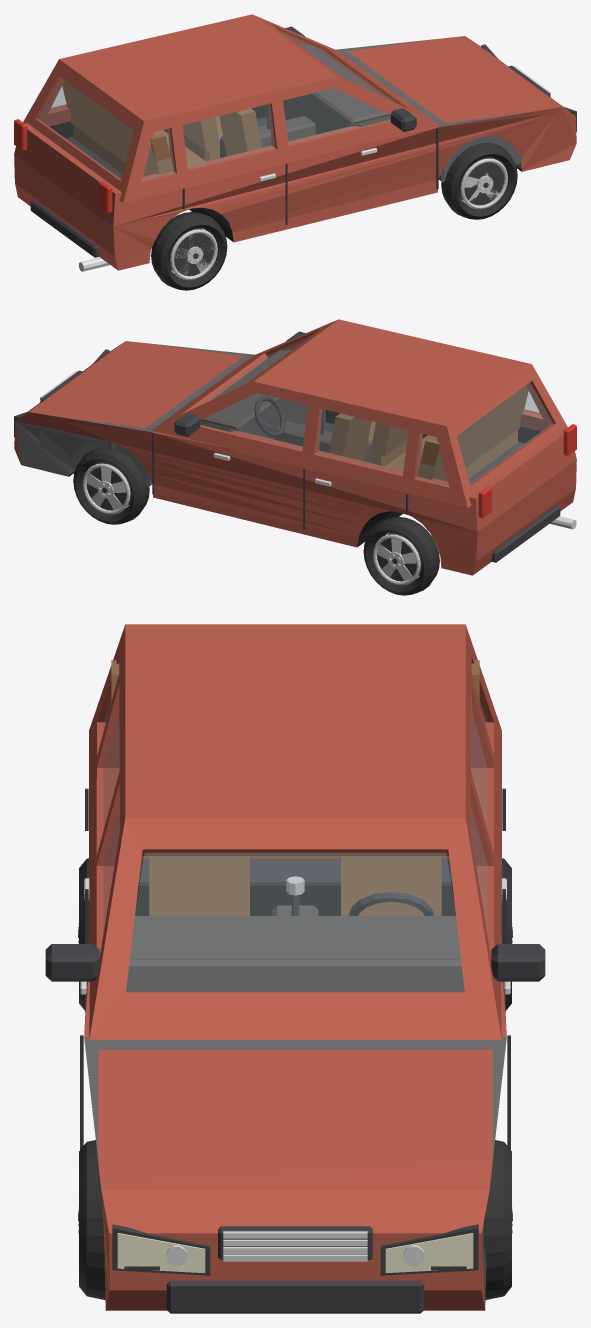
The model's file is torollah.glb.
The picture shows the model from 3 angles, top to bottom: view 1: azimuth 30°, elevation 25°; view 2: azimuth 150°, elevation 25°; view 3: azimuth 270°, elevation 25°; orthographic projection. The views are drawn at different scales.
Visible parts, largest first — view 1: Body.004, Glass.004, Hood.004, Seat.004, Tire.004, Dark.004, Dash.004, Rim.004, Bay.004, Well.004, Tail.004, Chrome.004; view 2: Body.004, Glass.004, Hood.004, Seat.004, Tire.004, Dark.004, Bay.004, Dash.004, Rim.004, Well.004, Tail.004, Chrome.004; view 3: Body.004, Hood.004, Glass.004, Dash.004, Dark.004, Seat.004, Tire.004, Bay.004, Chrome.004, Headlight.004, Well.004.
Part boxes in pixels (x1,y1,x2,y2): Body.004: (14,14,576,270); Glass.004: (38,33,393,180); Hood.004: (347,36,558,123); Seat.004: (62,80,261,176); Tire.004: (151,142,517,290); Dark.004: (30,26,576,276); Dash.004: (220,44,390,157); Rim.004: (170,158,507,280); Bay.004: (336,39,551,182); Well.004: (49,105,521,241); Tail.004: (14,119,112,213); Chrome.004: (79,66,550,271); Body.004: (14,319,576,575); Glass.004: (197,338,552,485); Hood.004: (32,341,243,428); Seat.004: (329,385,528,481); Tire.004: (73,447,439,595); Dark.004: (14,331,560,581); Bay.004: (15,344,254,487); Dash.004: (200,349,370,462); Rim.004: (83,463,420,585); Well.004: (69,410,541,546); Tail.004: (478,424,576,518); Chrome.004: (40,371,576,567); Body.004: (84,624,506,1310); Hood.004: (98,1049,492,1185); Glass.004: (103,702,487,991); Dash.004: (126,905,464,992); Dark.004: (45,788,545,1313); Seat.004: (111,660,479,915); Tire.004: (79,858,511,1299); Bay.004: (84,1037,506,1306); Chrome.004: (78,876,512,1265); Headlight.004: (117,1233,473,1273); Well.004: (135,885,455,915).
Size of the model in its own units: 4.34 by 1.48 by 1.94.
